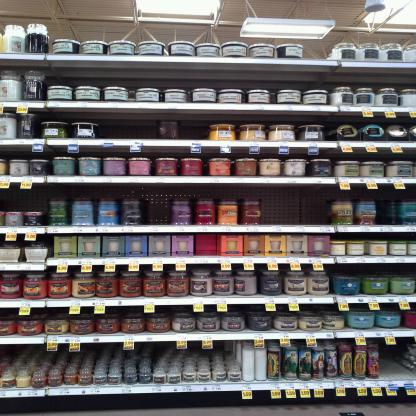Void: (50, 62, 330, 87), (262, 186, 328, 222), (97, 116, 150, 140), (339, 72, 416, 87), (379, 342, 406, 376), (145, 188, 170, 218), (6, 188, 44, 207), (383, 189, 399, 220), (304, 44, 332, 60), (190, 112, 207, 134)
